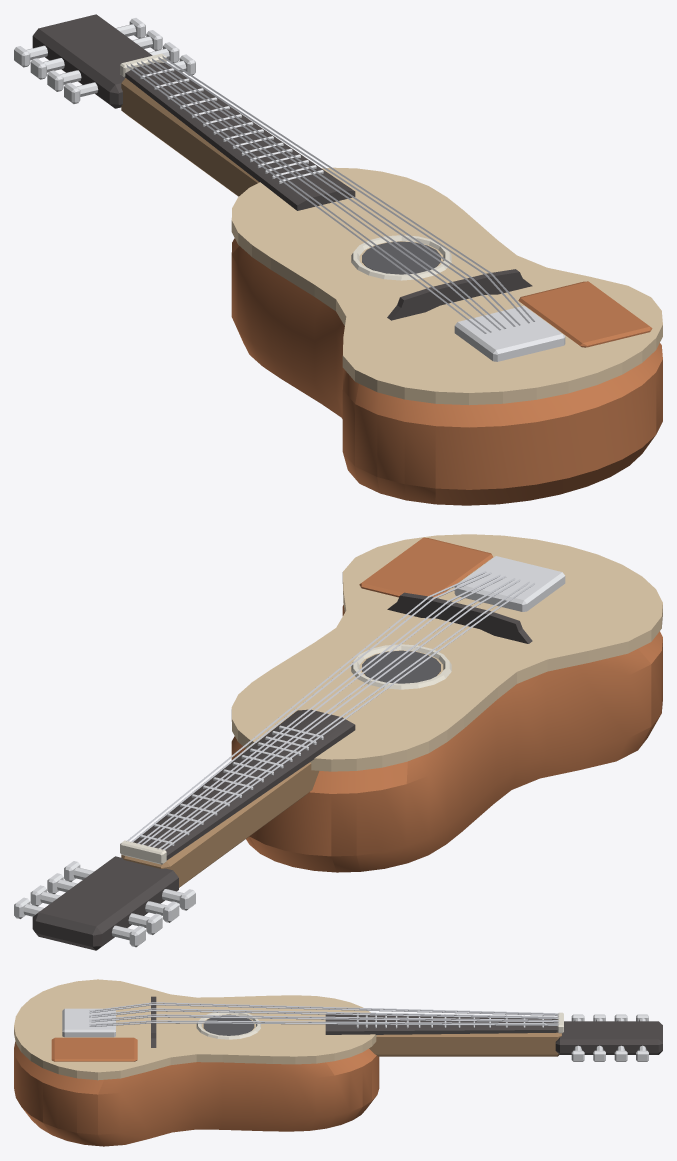
File: orchestra-and-band-instruments-mandolin-99a55cc0__39288.glb
The picture shows the model from 3 angles, top to bottom: view 1: azimuth 30°, elevation 25°; view 2: azimuth 150°, elevation 25°; view 3: azimuth 270°, elevation 25°; orthographic projection. The views are drawn at different scales.
Visible parts, largest first — view 1: mandolin; view 2: mandolin; view 3: mandolin.
Part boxes in pixels (x1,y1,x2,y2): mandolin: (14, 14, 662, 505); mandolin: (14, 534, 662, 950); mandolin: (14, 979, 662, 1146).
Bounding box in the file's own units: 0.2048 × 0.0932 × 0.604.
